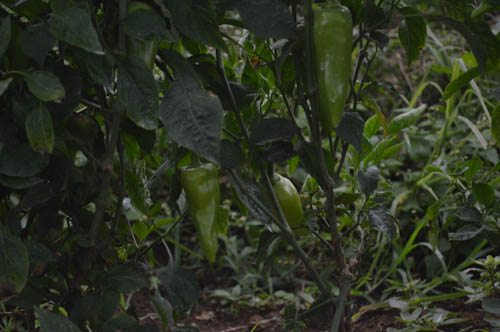ChiliPepper: (311, 5, 355, 132), (180, 164, 225, 265), (264, 173, 310, 230)
